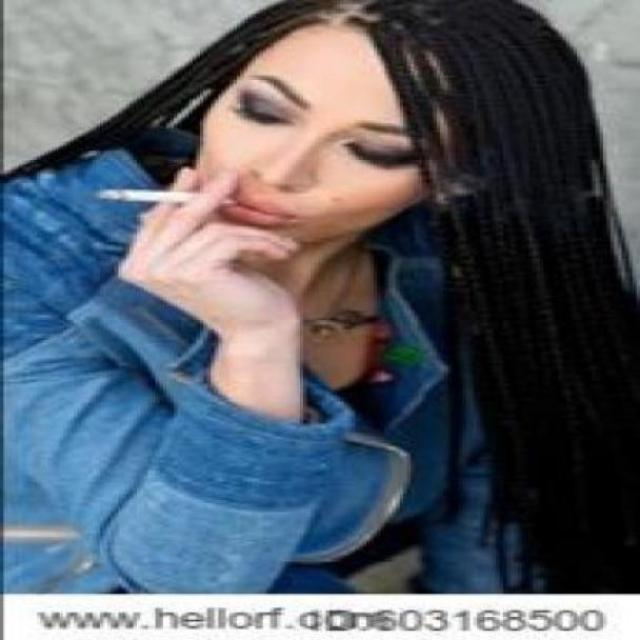rokok: (97, 182, 241, 222)
